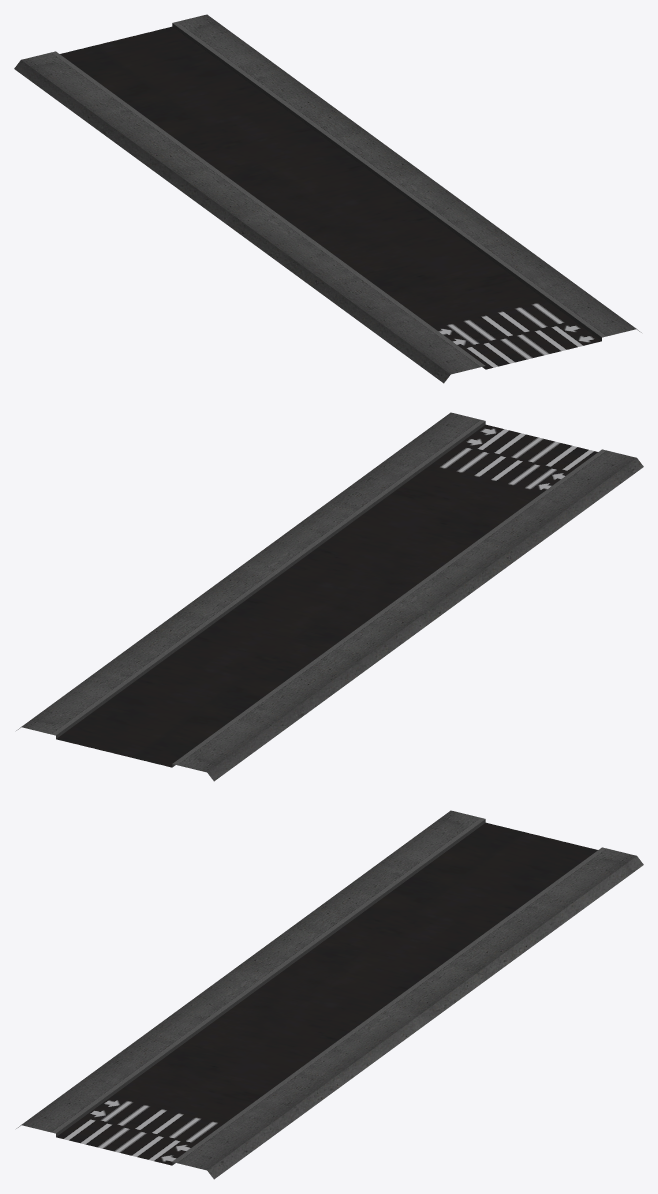
Rendered from RJs_Road 1+1 Basic Node_OW.fbx.
3 views of the same model, one above another, from view 1: azimuth 30°, elevation 25°; view 2: azimuth 150°, elevation 25°; view 3: azimuth 330°, elevation 25° (orthographic).
Parts seen in each view (by area): view 1: plane; view 2: plane; view 3: plane.
Boxes of the visible parts, box(x1,y1,x2,y2) form: plane: box(14, 14, 641, 383); plane: box(16, 412, 643, 781); plane: box(16, 810, 643, 1179).
Size of the model in its own units: 1720 by 60.1 by 6400.
